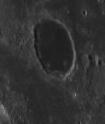crater: (21, 12, 82, 113)
